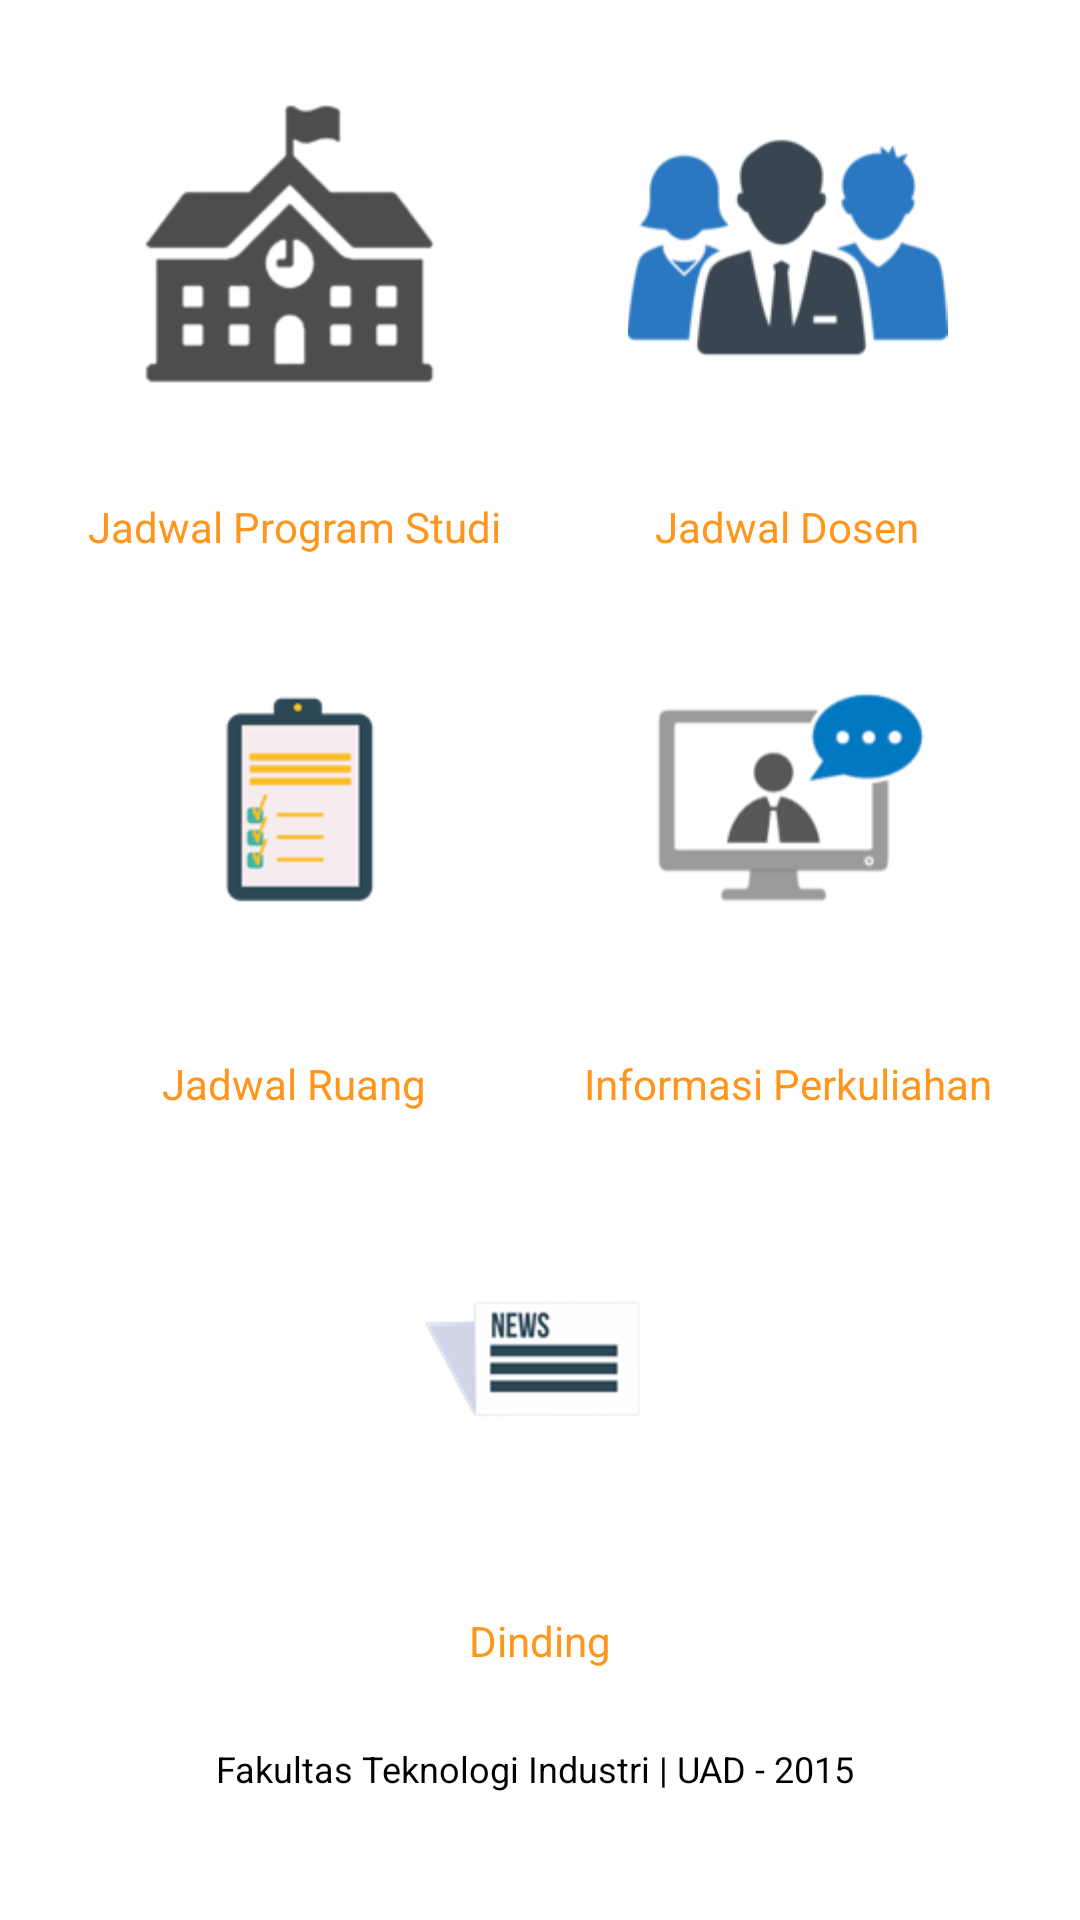

Point at icon controls on the screen. Image size 1080px×1920px, points as [x,y].
catatan: [299,799]
info kuliah: [791,797]
kampus: [289,244]
